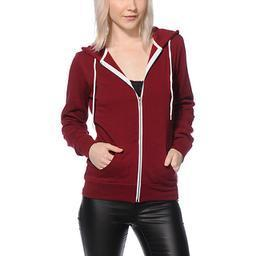pants: (78, 193, 190, 256)
sweater: (61, 26, 194, 202)
